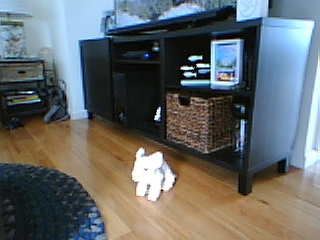piggy: (130, 146, 177, 203)
